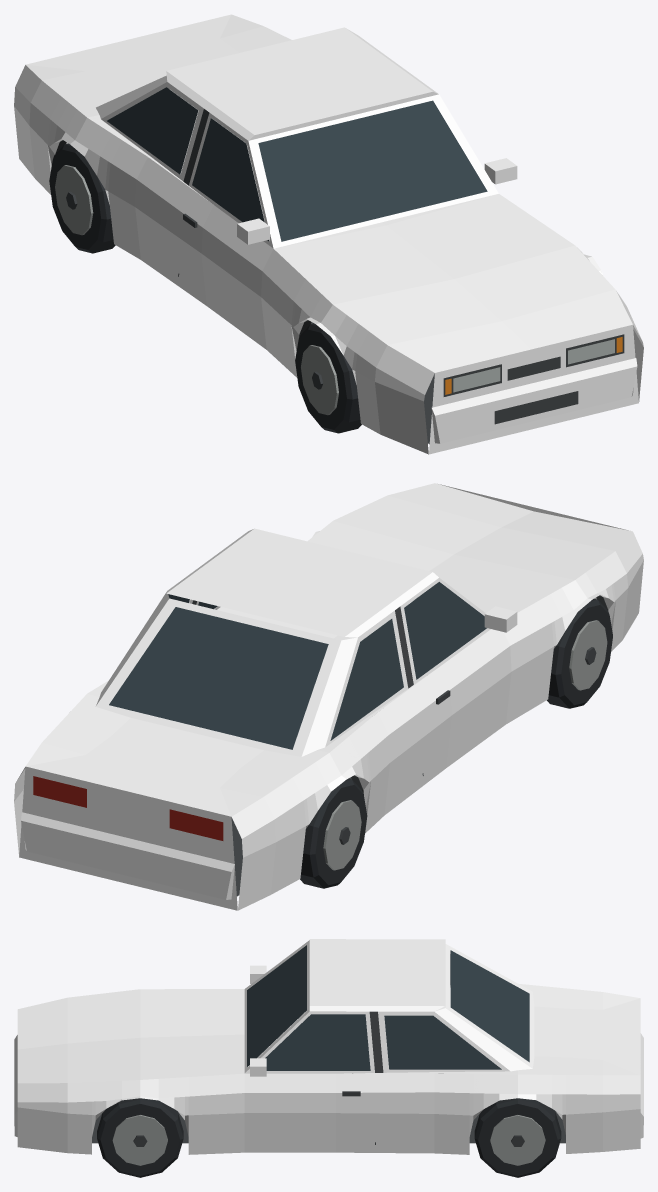
The model's file is cutler_ironwood_ii.glb.
The picture shows the model from 3 angles, top to bottom: view 1: azimuth 30°, elevation 25°; view 2: azimuth 150°, elevation 25°; view 3: azimuth 270°, elevation 25°; orthographic projection. The views are drawn at different scales.
Visible parts, largest first — view 1: cutler_ironwood_ii; view 2: cutler_ironwood_ii; view 3: cutler_ironwood_ii.
Part boxes in pixels (bbox=[...]): cutler_ironwood_ii: bbox=[14, 14, 643, 454]; cutler_ironwood_ii: bbox=[14, 483, 643, 910]; cutler_ironwood_ii: bbox=[14, 939, 643, 1177].
Size of the model in its own units: 1.76 by 1.24 by 4.52.
Materials: 8 (1 with a texture image).
